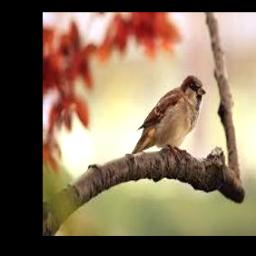Sparrow: (131, 75, 206, 155)
